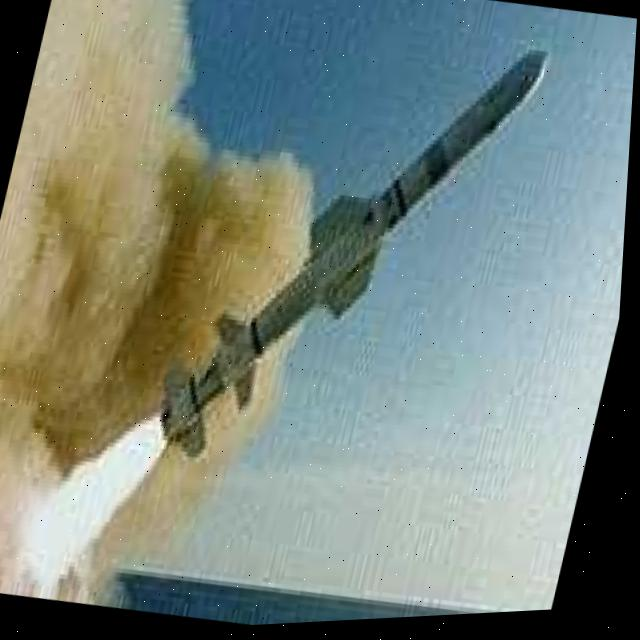missile: (149, 3, 553, 506)
